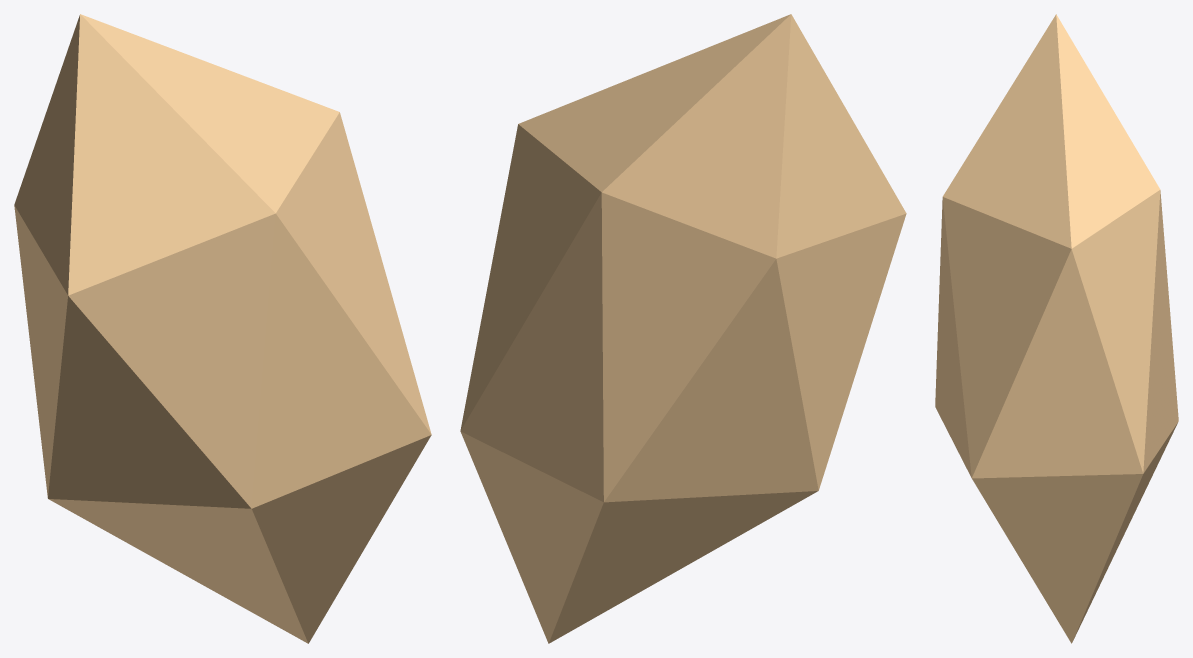
File: WoodenRodStone.fbx
3 views of the same model, side by side, from view 1: azimuth 30°, elevation 25°; view 2: azimuth 150°, elevation 25°; view 3: azimuth 270°, elevation 25° (orthographic). The views are drawn at different scales.
Parts seen in each view (by area): view 1: WoodenRodCrystal; view 2: WoodenRodCrystal; view 3: WoodenRodCrystal.
Boxes of the visible parts, x1,y1,x2,y2 form: WoodenRodCrystal: (14,14,431,643); WoodenRodCrystal: (460,14,906,643); WoodenRodCrystal: (935,14,1178,643).
Bounding box in the file's own units: 0.0518 × 0.095 × 0.0389.
